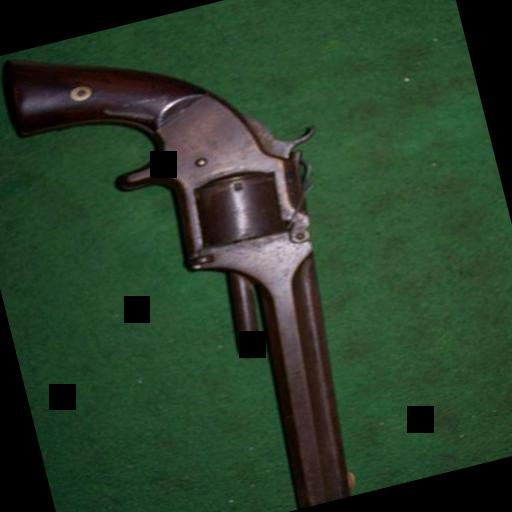Handgun: (0, 0, 403, 512)
